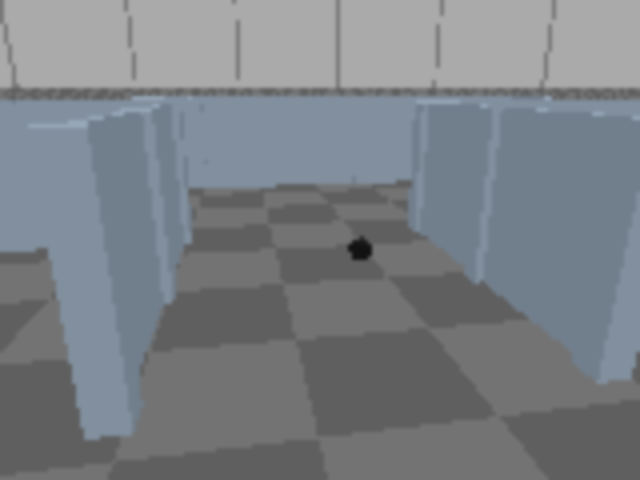puck: (347, 234, 375, 265)
